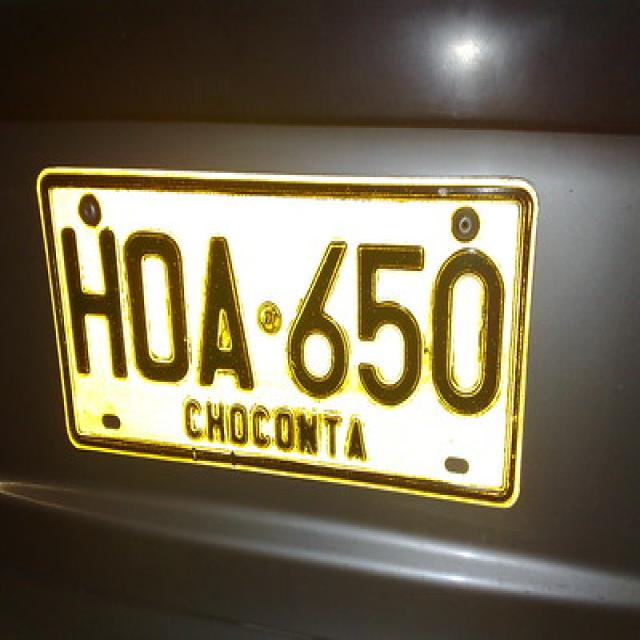placa_carro: (29, 145, 554, 516)
